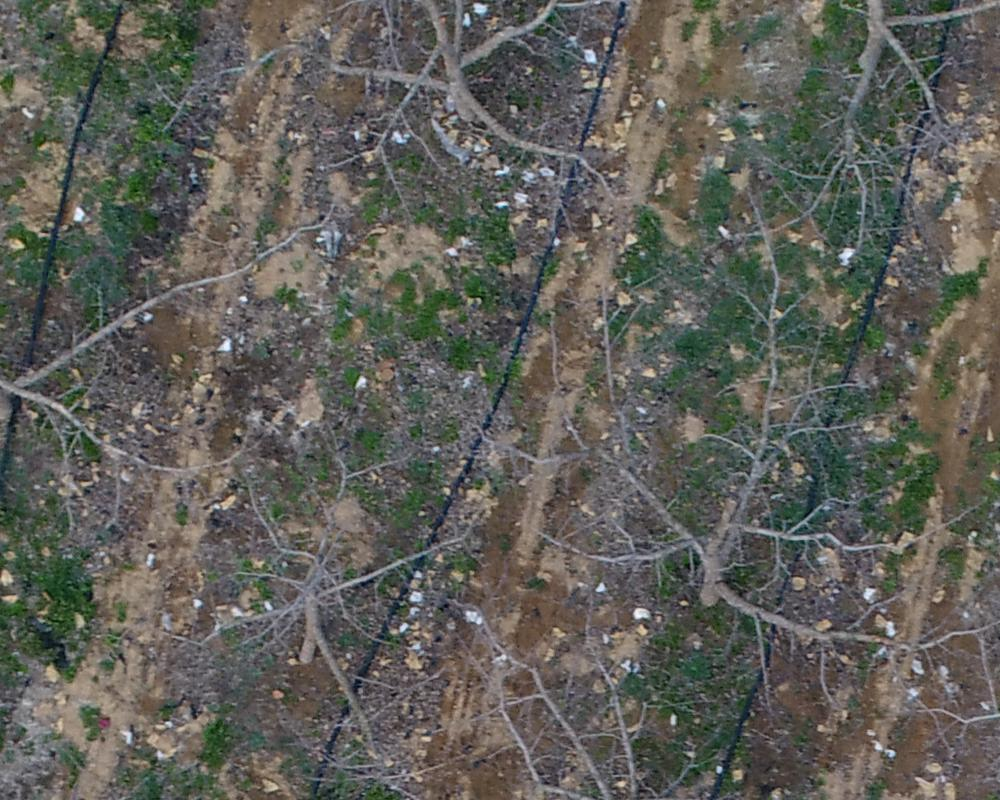apple: (514, 242, 929, 690), (440, 605, 926, 790), (10, 220, 269, 510), (216, 462, 463, 764), (250, 10, 618, 195)
